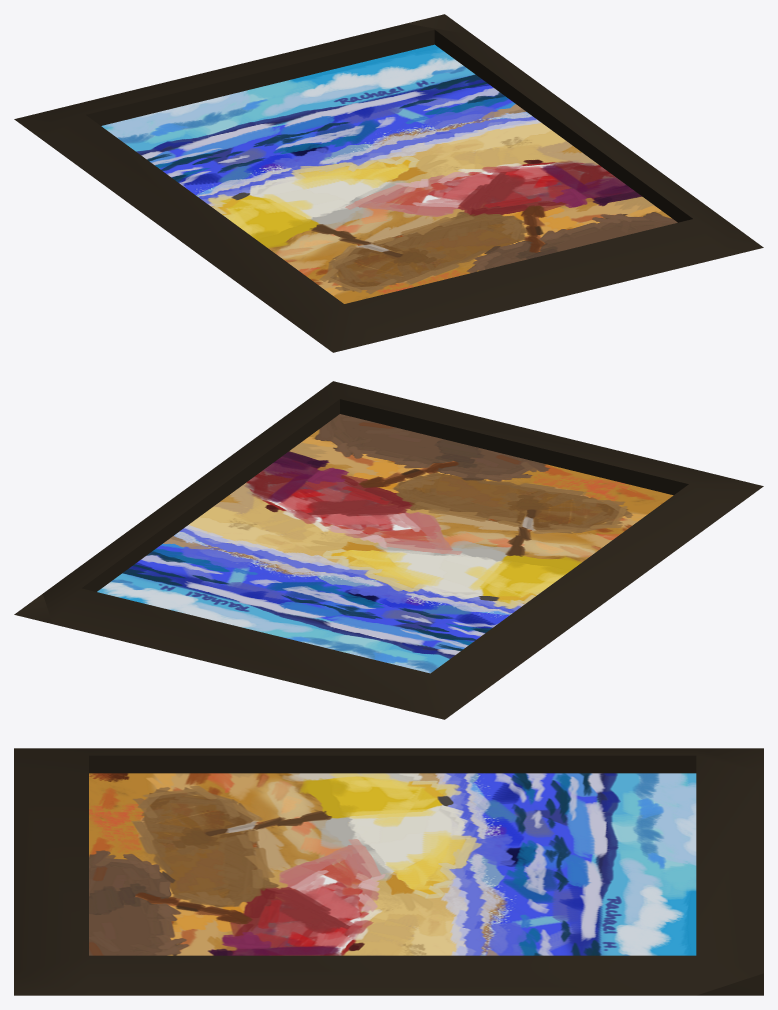
The model's file is Painting25.fbx.
3 renders of one model, top to bottom at view 1: azimuth 30°, elevation 25°; view 2: azimuth 150°, elevation 25°; view 3: azimuth 270°, elevation 25°, orthographic. The views are drawn at different scales.
Parts seen in each view (by area): view 1: pPlane1, pCube1; view 2: pPlane1, pCube1; view 3: pPlane1, pCube1.
Boxes of the visible parts, box(x1,y1,x2,y2) form: pPlane1: box(101, 44, 677, 303); pCube1: box(14, 14, 763, 352); pPlane1: box(97, 414, 673, 673); pCube1: box(14, 381, 763, 719); pPlane1: box(89, 773, 696, 955); pCube1: box(14, 748, 763, 995).
Bounding box in the file's own units: 6.54 × 0.4312 × 8.4.
Materials: 2 (1 with a texture image).
